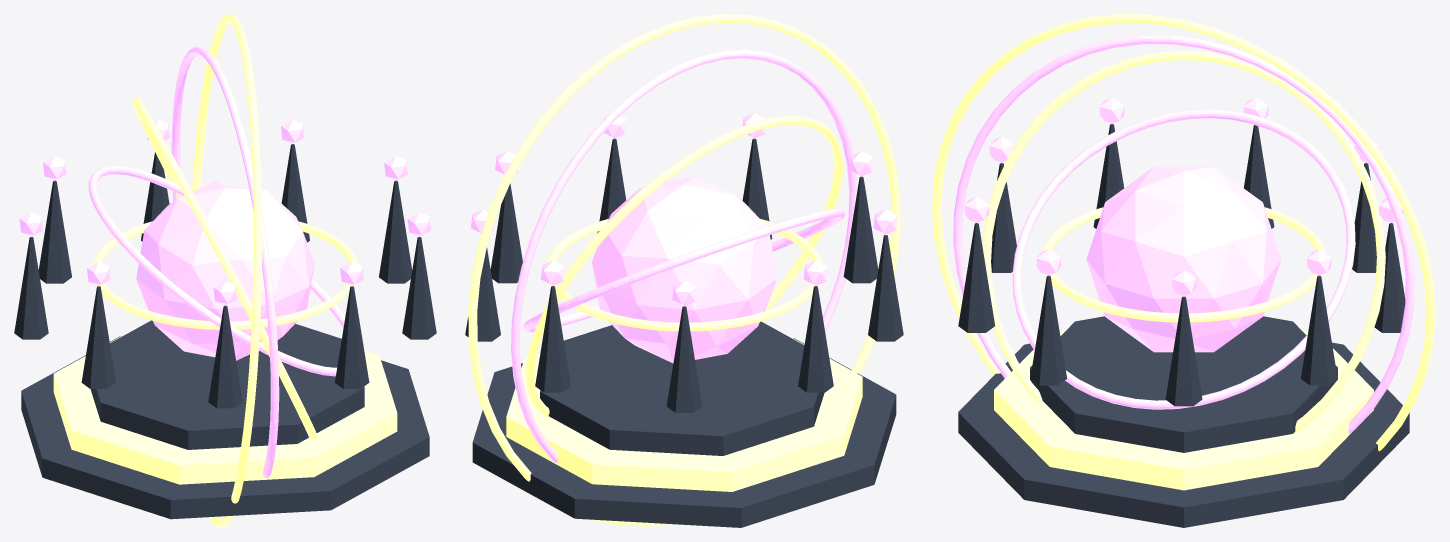
The model's file is gpu-blender-v51.glb.
3 views of the same model, side by side, from view 1: azimuth 30°, elevation 25°; view 2: azimuth 150°, elevation 25°; view 3: azimuth 270°, elevation 25° (orthographic). The views are drawn at different scales.
Visible parts, largest first — view 1: Cylinder.002, Cylinder, SovereignCore_zothos-lite, Cylinder.001, Torus.004, Torus.003, Torus.001, Torus.002, Torus, Cone.006, Cone.004, Cone.008 (+6 smaller); view 2: Cylinder.002, SovereignCore_zothos-lite, Cylinder, Cylinder.001, Torus.004, Torus.003, Torus.002, Torus.001, Torus, Cone.005, Cone.002, Cone.004 (+6 smaller); view 3: SovereignCore_zothos-lite, Cylinder.002, Cylinder, Cylinder.001, Torus.004, Torus.003, Torus.002, Torus.001, Torus, Cone, Cone.001, Cone.008 (+6 smaller).
Part boxes in pixels (left/top/right/bottom): Cylinder.002: left=90, top=320, right=364, bottom=449; Cylinder: left=21, top=336, right=429, bottom=519; SovereignCore_zothos-lite: left=136, top=181, right=314, bottom=360; Cylinder.001: left=53, top=327, right=397, bottom=484; Torus.004: left=192, top=14, right=262, bottom=527; Torus.003: left=171, top=46, right=279, bottom=479; Torus.001: left=88, top=165, right=345, bottom=376; Torus.002: left=132, top=97, right=317, bottom=439; Torus: left=92, top=221, right=358, bottom=329; Cone.006: left=208, top=305, right=242, bottom=408; Cone.004: left=14, top=237, right=48, bottom=339; Cone.008: left=402, top=237, right=436, bottom=339; Cylinder.002: left=540, top=321, right=824, bottom=455; SovereignCore_zothos-lite: left=592, top=176, right=776, bottom=363; Cylinder: left=472, top=338, right=896, bottom=527; Cylinder.001: left=506, top=329, right=862, bottom=491; Torus.004: left=468, top=14, right=900, bottom=526; Torus.003: left=511, top=49, right=857, bottom=462; Torus.002: left=525, top=115, right=843, bottom=416; Torus.001: left=523, top=208, right=844, bottom=332; Torus: left=546, top=219, right=822, bottom=331; Cone.005: left=868, top=235, right=903, bottom=341; Cone.002: left=535, top=286, right=570, bottom=392; Cone.004: left=798, top=286, right=833, bottom=392; SovereignCore_zothos-lite: left=1086, top=166, right=1281, bottom=352; Cylinder.002: left=1030, top=316, right=1337, bottom=452; Cylinder: left=958, top=342, right=1409, bottom=527; Cylinder.001: left=994, top=330, right=1373, bottom=490; Torus.004: left=932, top=14, right=1435, bottom=451; Torus.003: left=953, top=35, right=1414, bottom=433; Torus.002: left=983, top=50, right=1385, bottom=432; Torus.001: left=1012, top=109, right=1355, bottom=409; Torus: left=1042, top=207, right=1325, bottom=322; Cone: left=1165, top=296, right=1202, bottom=406; Cone.001: left=1300, top=275, right=1337, bottom=385; Cone.008: left=1030, top=275, right=1067, bottom=385.
Bounding box in the file's own units: 4.41 × 5.33 × 4.9.
